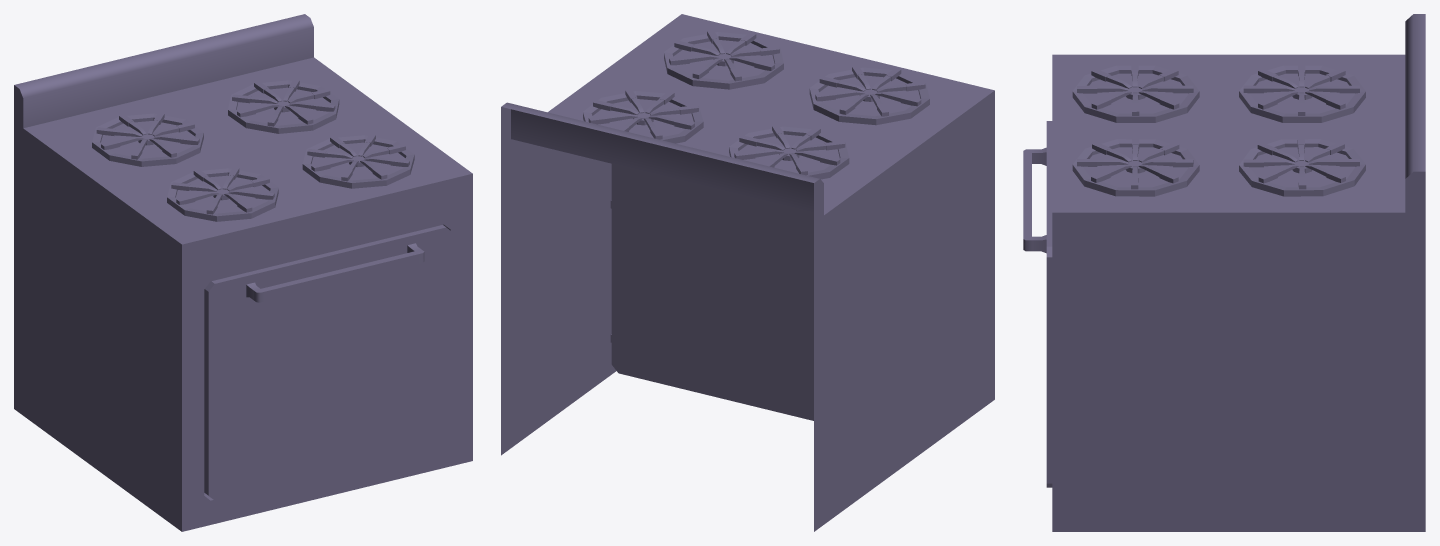
The model's file is SM_Stove_Oven.fbx.
3 views of the same model, side by side, from view 1: azimuth 30°, elevation 25°; view 2: azimuth 150°, elevation 25°; view 3: azimuth 270°, elevation 25° (orthographic). The views are drawn at different scales.
Visible parts, largest first — view 1: SM_StoveBase, SM_OvenDoor; view 2: SM_StoveBase; view 3: SM_StoveBase, SM_OvenDoor.
Boxes of the visible parts, bbox=[...] form: SM_StoveBase: bbox=[14, 14, 472, 531]; SM_OvenDoor: bbox=[204, 225, 452, 500]; SM_StoveBase: bbox=[501, 14, 994, 531]; SM_StoveBase: bbox=[1052, 14, 1425, 531]; SM_OvenDoor: bbox=[1023, 121, 1052, 487].
Bounding box in the file's own units: 100 × 106 × 108.
